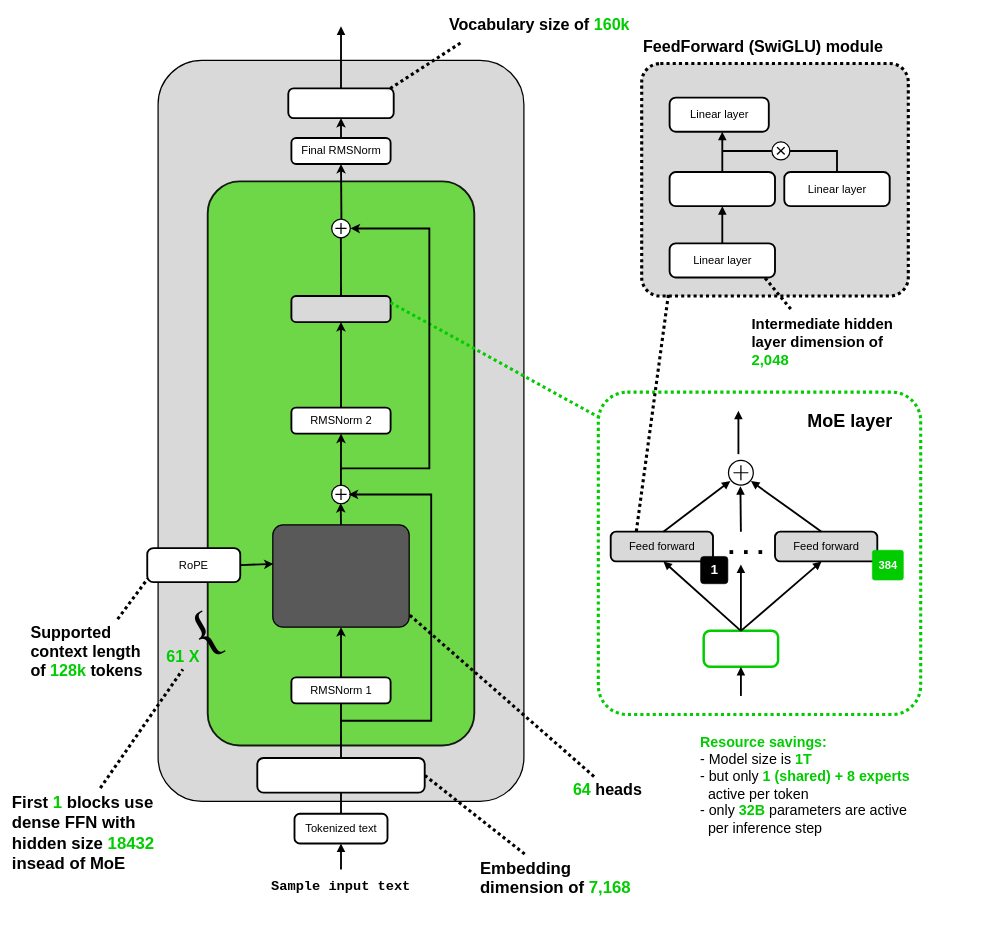
Image size: 993x929. Some labels were removed from this diagram. The shapes that lost their labels are listed below. From the top down, each one's box as (x1, y1, x2, y2) in pixels, then its label:
(287, 87, 394, 119): Linear output layer
(668, 171, 776, 207): SiLU activation
(290, 295, 391, 323): MoE
(272, 524, 410, 627): Multi-head Latent Attention
(702, 629, 779, 668): Router
(256, 757, 425, 793): Token embedding layer
